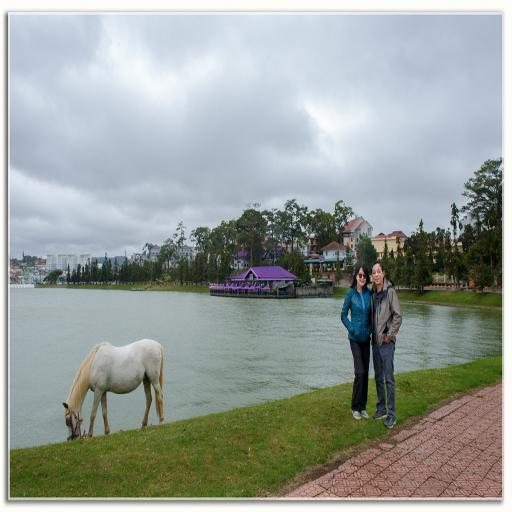horse: (63, 341, 164, 441)
